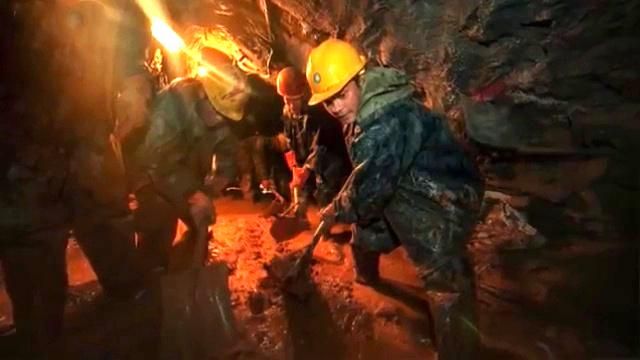helmet: (305, 37, 368, 124), (194, 63, 250, 129), (276, 66, 307, 114)
